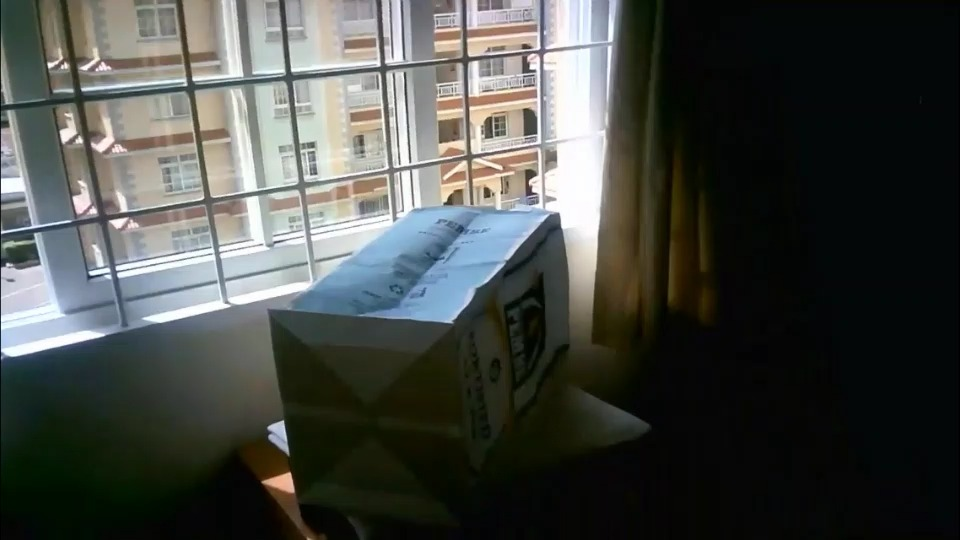wheat_flour_blue_label: (270, 205, 571, 520)
